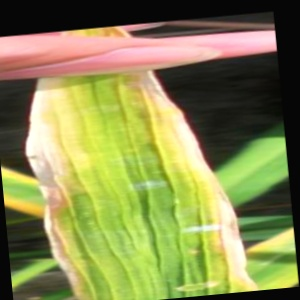Leaf_Blast: (32, 73, 217, 300)
